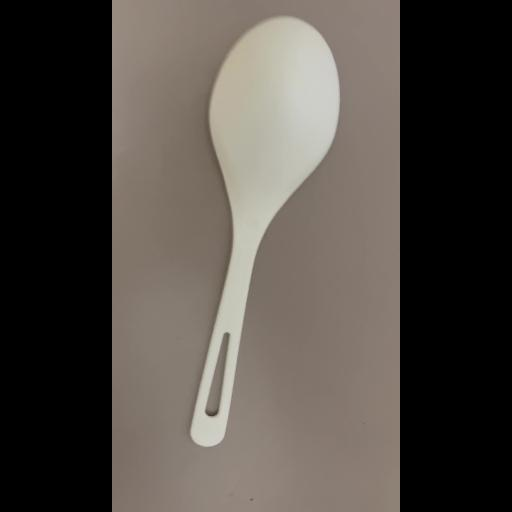utensil: (161, 12, 367, 456)
